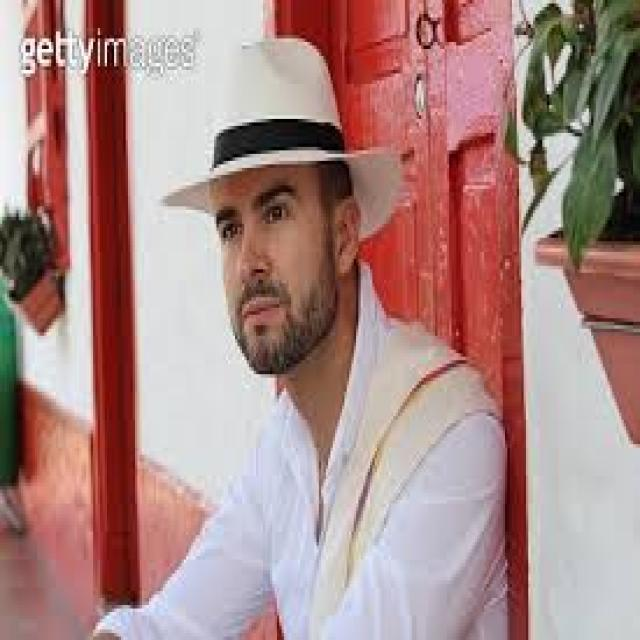hat: (163, 39, 405, 381)
